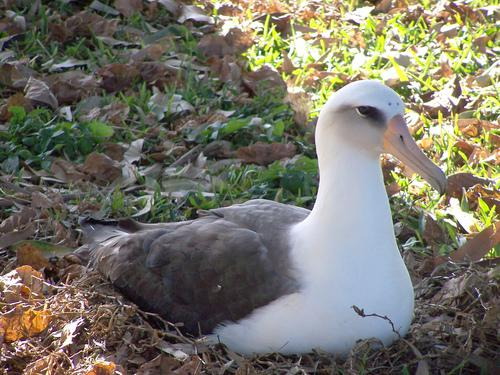002.Laysan_Albatross: (75, 81, 453, 362)
